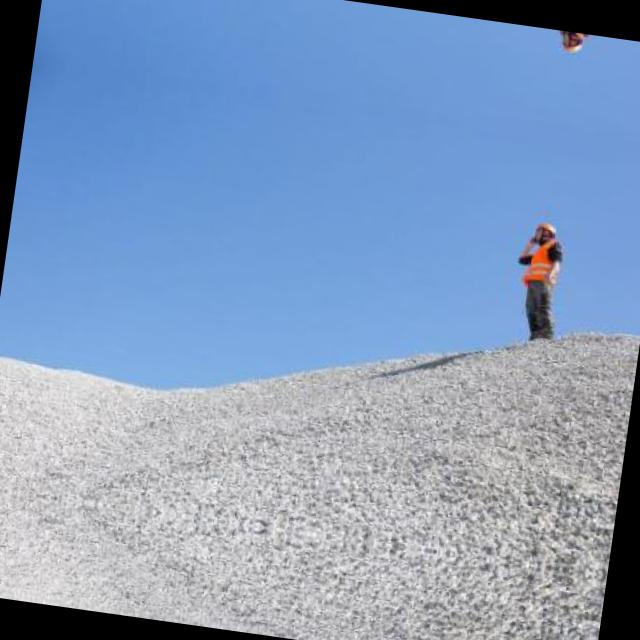helmet: (554, 30, 592, 60), (529, 218, 565, 246)
